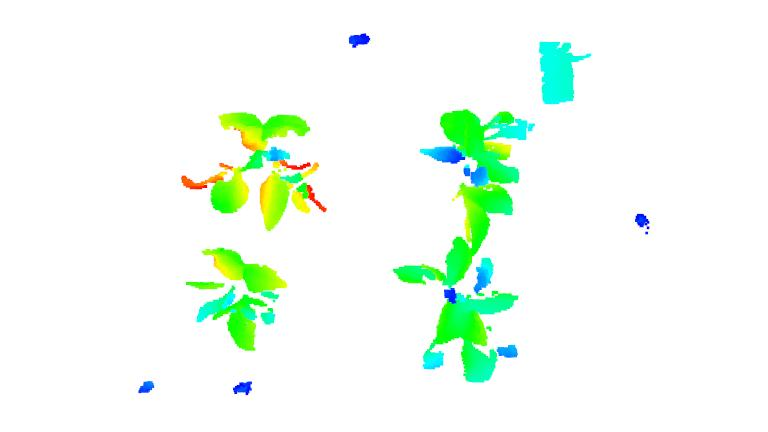mungbean: (395, 208, 526, 391), (177, 103, 334, 230), (417, 105, 543, 214), (181, 245, 288, 353)
